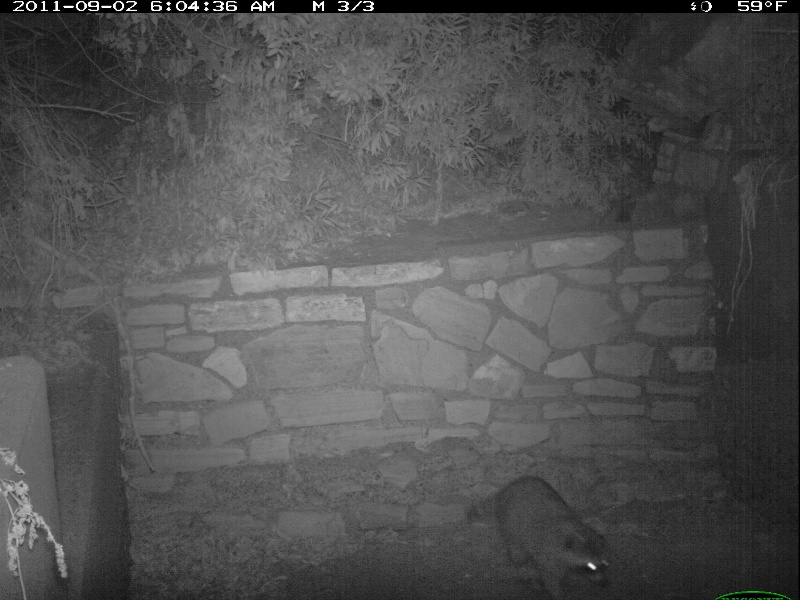raccoon: (466, 473, 617, 596)
